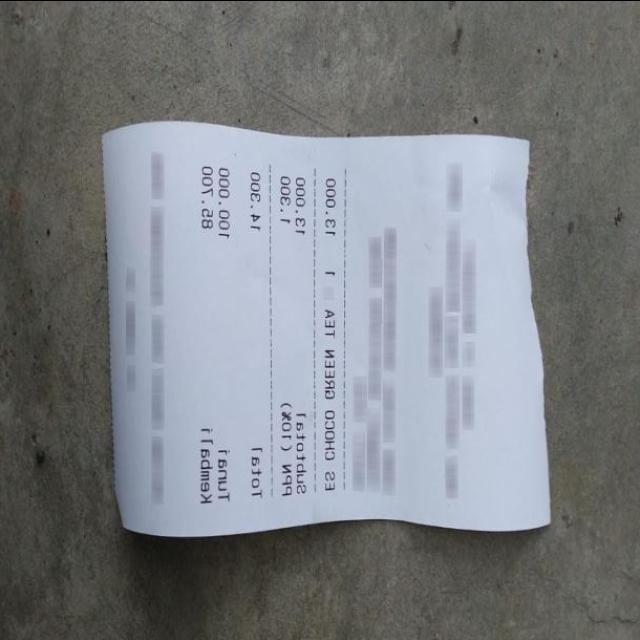kertas: (101, 108, 551, 545)
